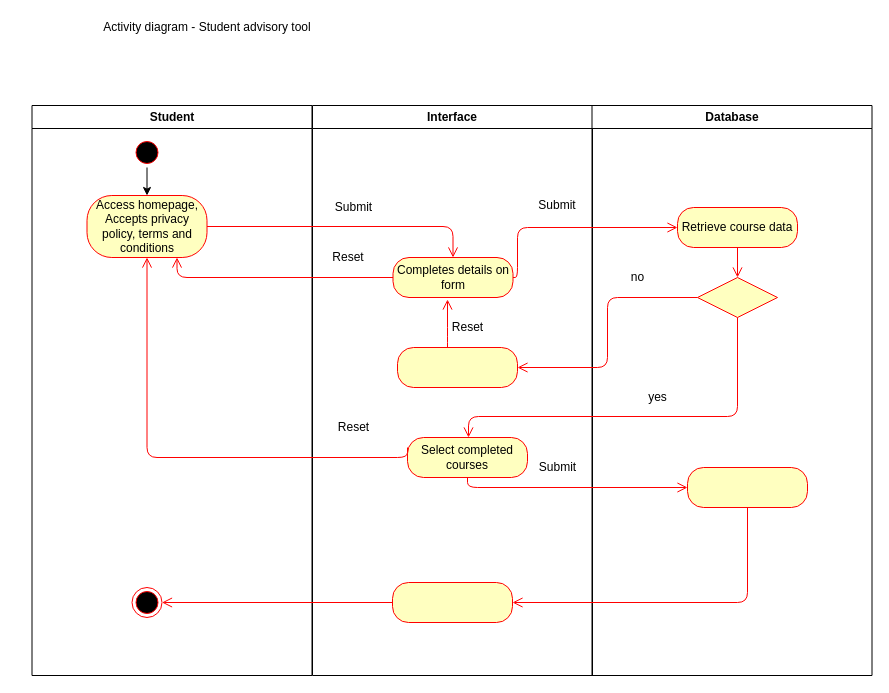
Image size: 889x693. Some labels were removed from this diagram. Each missing label, with the box of its shape:
Compares data and Calculates pathway: (686, 466, 808, 508)
Display results: (392, 582, 512, 622)
query valid: (696, 276, 778, 318)
Return error message: (396, 346, 518, 388)
